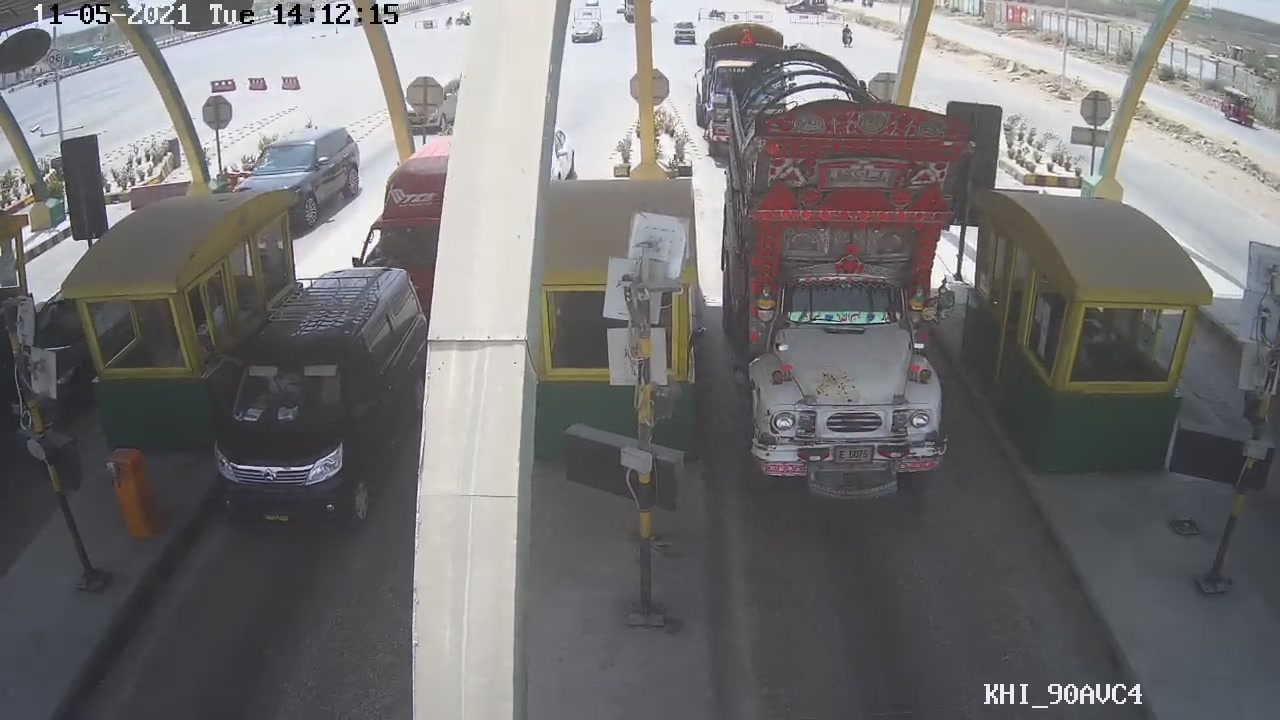F5: (706, 78, 996, 504)
